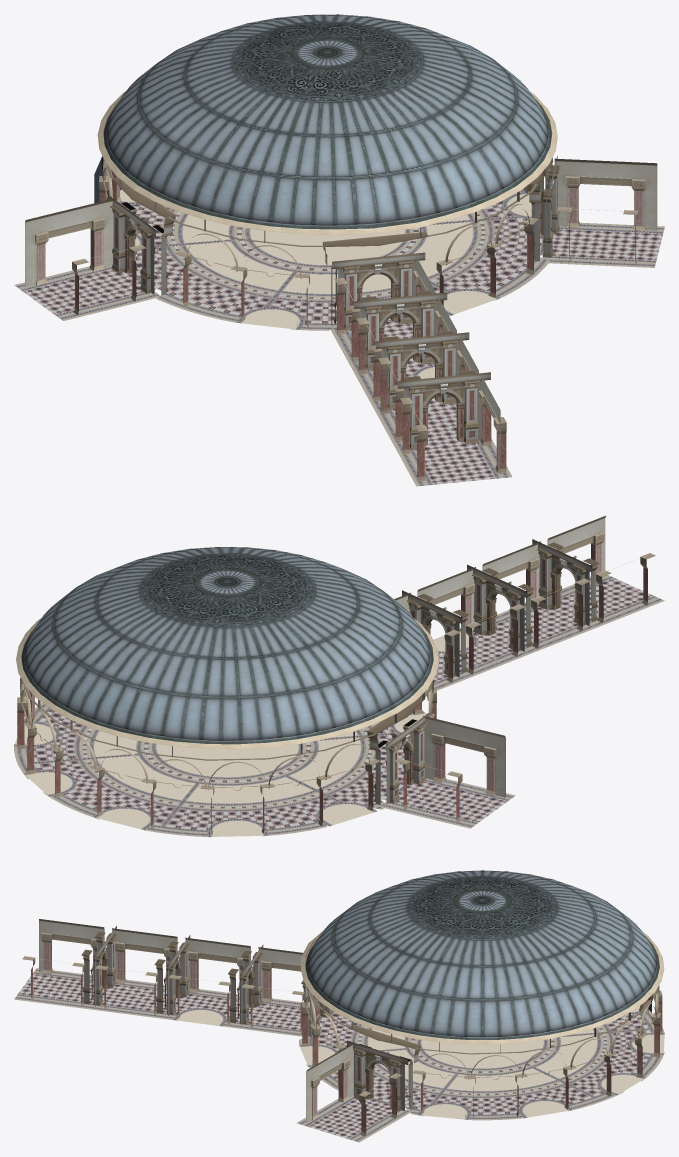
Rendered from t1_b_passage_c.glb.
3 renders of one model, top to bottom at view 1: azimuth 30°, elevation 25°; view 2: azimuth 150°, elevation 25°; view 3: azimuth 270°, elevation 25°, orthographic. The views are drawn at different scales.
Parts seen in each view (by area): view 1: um_t1_b_passage_c_model_t1_b_passage_c_modelShape; view 2: um_t1_b_passage_c_model_t1_b_passage_c_modelShape; view 3: um_t1_b_passage_c_model_t1_b_passage_c_modelShape.
Boxes of the visible parts, bbox=[...] form: um_t1_b_passage_c_model_t1_b_passage_c_modelShape: bbox=[14, 14, 664, 486]; um_t1_b_passage_c_model_t1_b_passage_c_modelShape: bbox=[14, 515, 664, 837]; um_t1_b_passage_c_model_t1_b_passage_c_modelShape: bbox=[14, 870, 664, 1142].
Bounding box in the file's own units: 61.11 × 19.73 × 79.59.
Materials: 10 (10 with a texture image).
